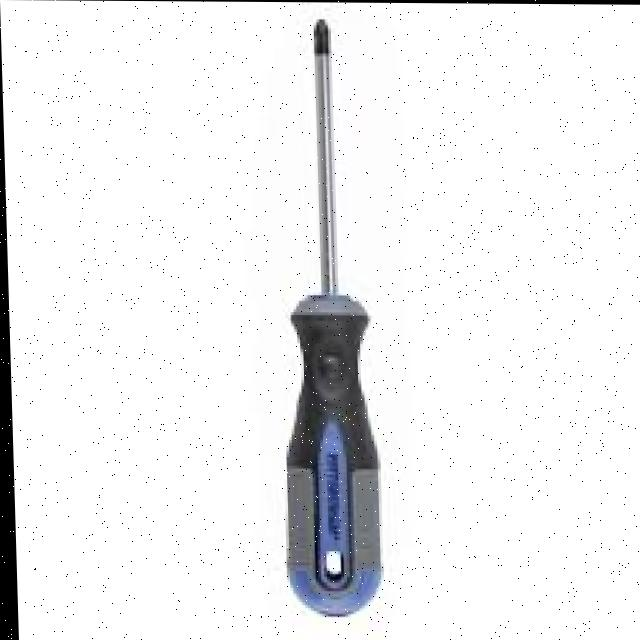Screwdriver: (284, 19, 377, 615)
